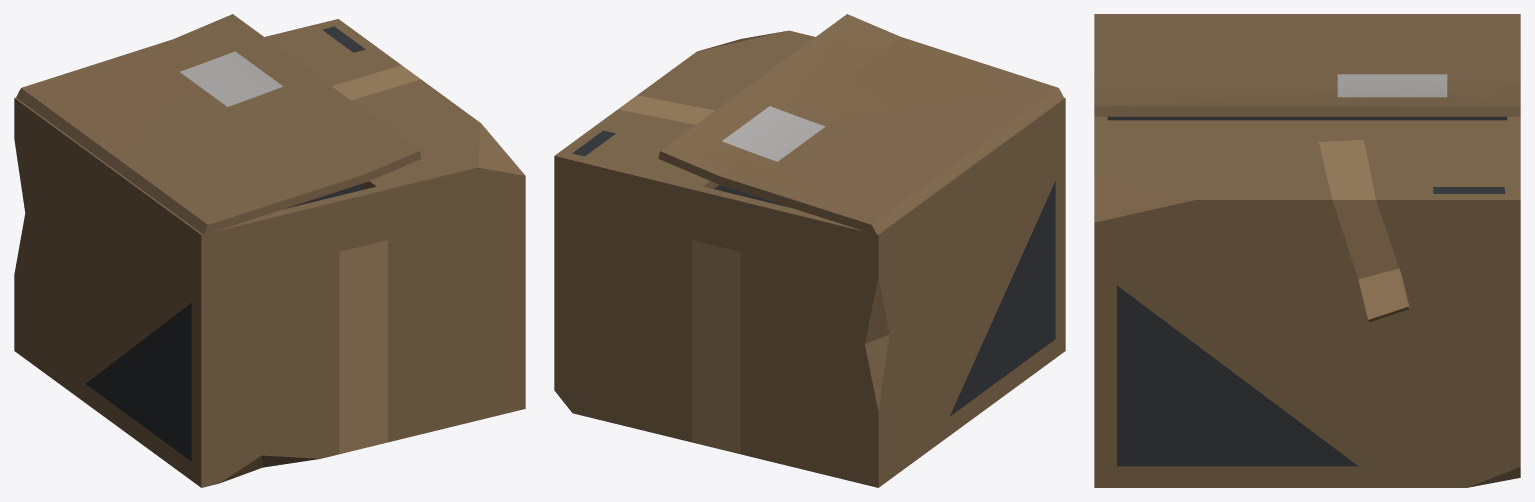
File: SM_Gen_Prop_Cardboard_Box_02.obj
3 views of the same model, side by side, from view 1: azimuth 30°, elevation 25°; view 2: azimuth 150°, elevation 25°; view 3: azimuth 270°, elevation 25° (orthographic). The views are drawn at different scales.
Visible parts, largest first — view 1: SM_Gen_Prop_Cardboard_Box_02_0; view 2: SM_Gen_Prop_Cardboard_Box_02_0; view 3: SM_Gen_Prop_Cardboard_Box_02_0.
Part boxes in pixels (bbox=[...]): SM_Gen_Prop_Cardboard_Box_02_0: bbox=[14, 14, 525, 487]; SM_Gen_Prop_Cardboard_Box_02_0: bbox=[554, 14, 1065, 487]; SM_Gen_Prop_Cardboard_Box_02_0: bbox=[1094, 14, 1520, 487].
Size of the model in its own units: 0.5236 by 0.4177 by 0.4994.
Materials: 1 (1 with a texture image).
